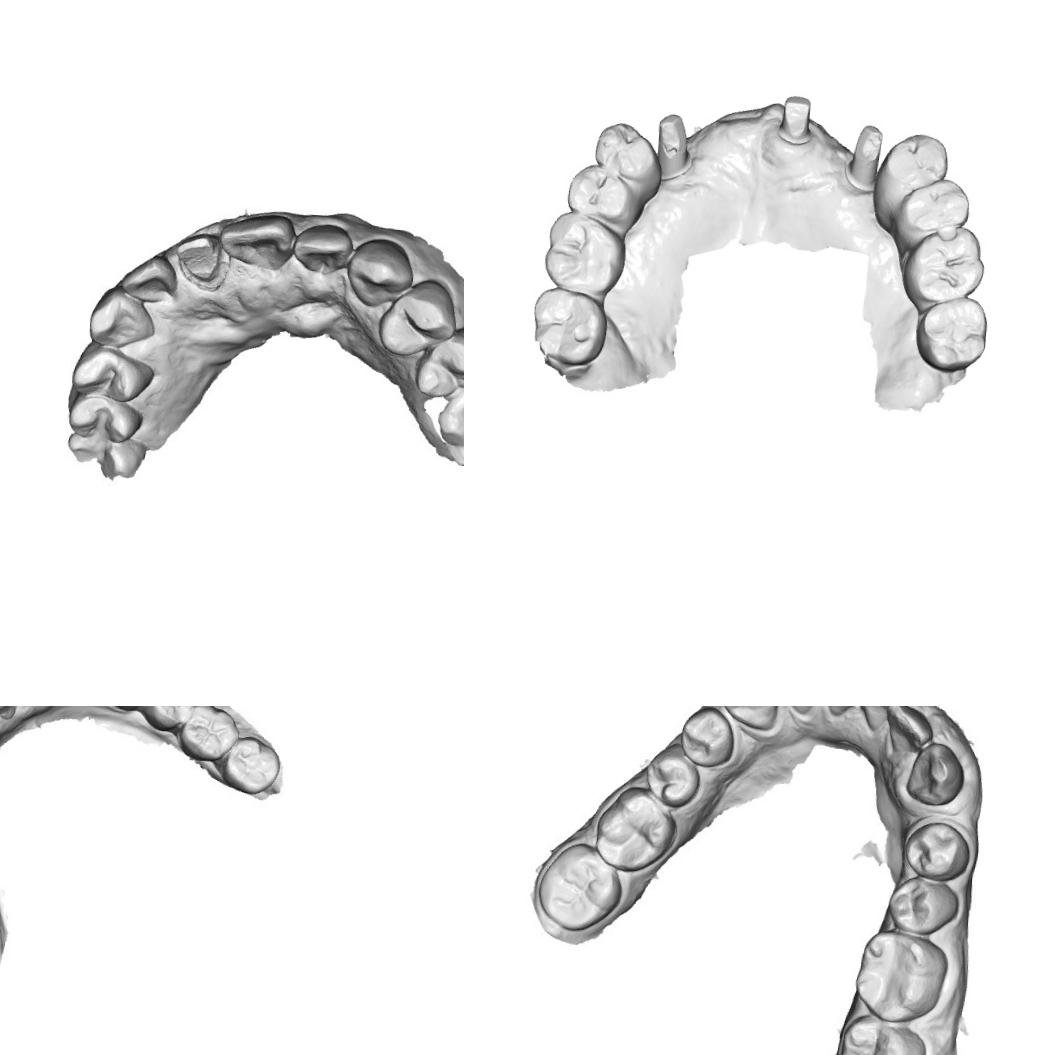abutment: (649, 108, 694, 178), (844, 117, 884, 192), (774, 90, 816, 148)
canine: (347, 234, 416, 308), (902, 740, 970, 808), (88, 284, 156, 350), (722, 706, 778, 728)
crown: (170, 226, 228, 289)
incisor: (222, 210, 297, 268), (295, 214, 353, 280), (121, 254, 180, 306), (883, 706, 936, 756), (848, 706, 904, 728), (815, 706, 864, 718)
molar: (534, 839, 626, 938), (540, 207, 632, 298), (856, 935, 944, 1028), (900, 222, 986, 312), (528, 282, 610, 374), (912, 294, 990, 376), (596, 791, 671, 872), (221, 732, 283, 796), (177, 706, 242, 764), (832, 1017, 923, 1055), (439, 370, 464, 458)
premolar: (374, 274, 456, 363), (74, 335, 153, 407), (590, 118, 662, 192), (895, 172, 974, 239), (564, 162, 642, 229), (65, 384, 148, 446), (904, 814, 974, 881), (888, 872, 955, 939), (881, 130, 951, 194), (415, 323, 464, 399), (683, 706, 736, 772), (642, 748, 698, 806), (144, 706, 196, 728)
